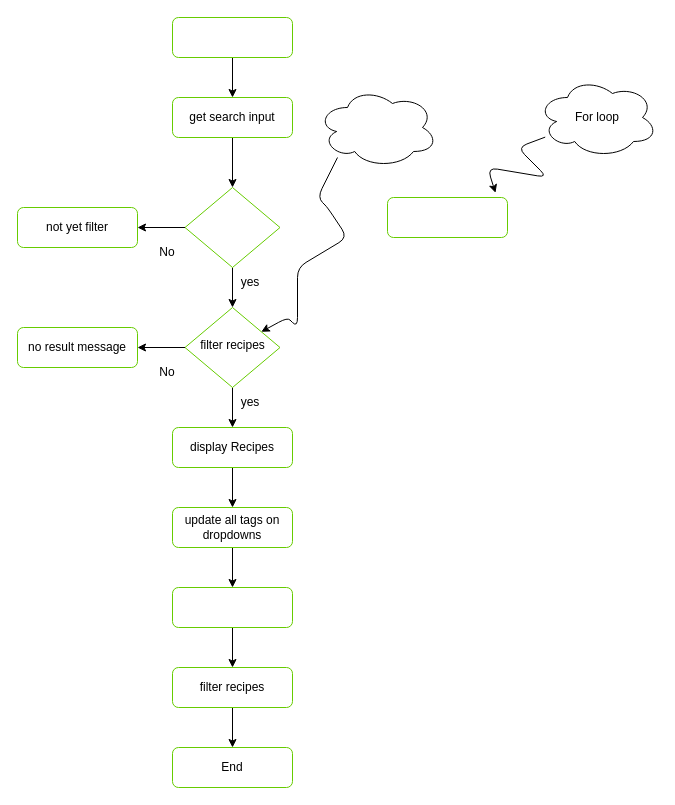
Image size: 675x805. Some labels were removed from this diagram. Each missing label, with the centre of its shape:
check length input >=3: (x=232, y=227)
fonctional loop: (x=377, y=127)
For each recipes: (x=447, y=217)
select tags: (x=232, y=607)
start: (x=232, y=37)
